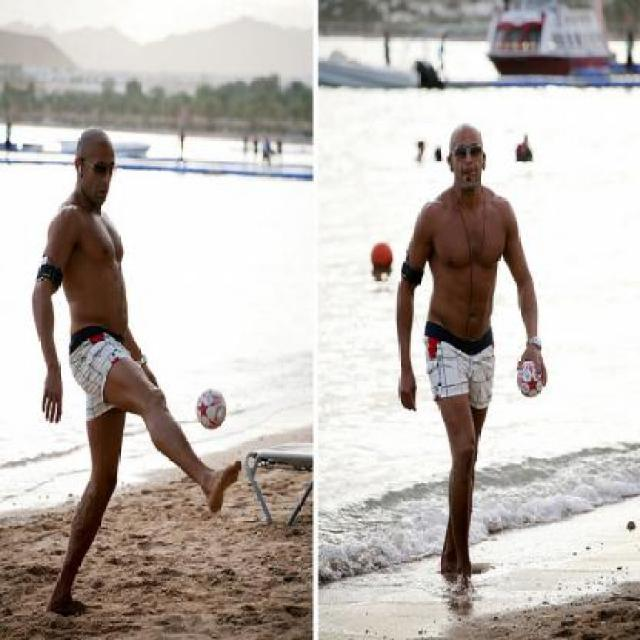ship: (482, 0, 613, 77), (56, 125, 150, 156)
